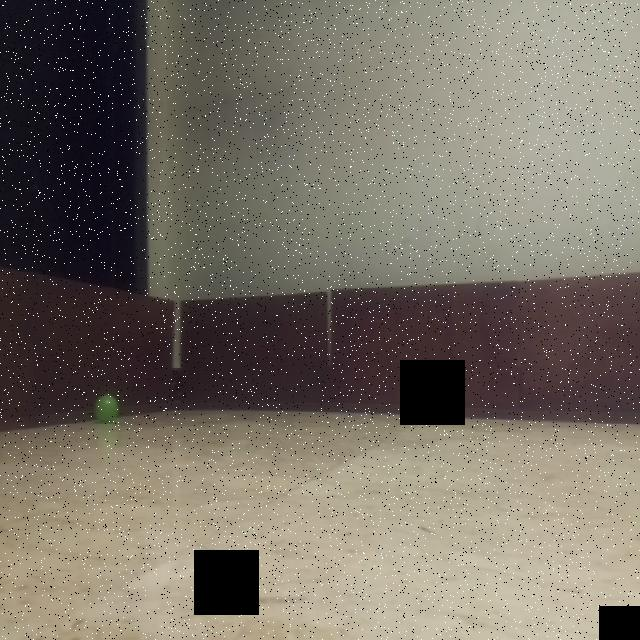ball: (94, 389, 122, 423)
